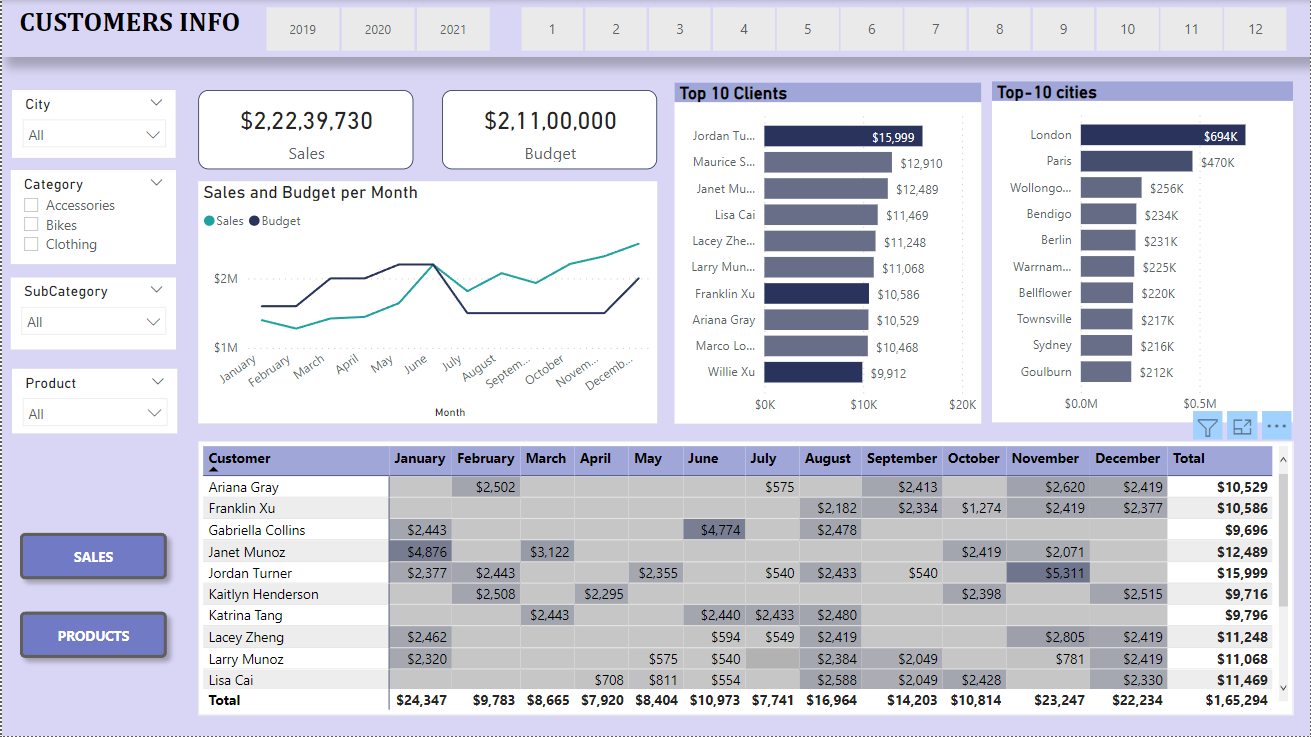

Layout of this report page (visuals, bound fields, positions):
{"tool":"powerbi","page":{"name":"CUSTOMERS INFO","canvas":[1280,720],"ordinal":1},"visuals":[{"type":"textbox","box":[0,0,1279.9,56.2],"z":0},{"type":"slicer","fields":{"Values":["Product_Table.Category"]},"box":[8.7,165.9,161.6,92.3],"z":1000},{"type":"slicer","fields":{"Values":["Product_Table.SubCategory"]},"box":[8.7,271.3,161.6,70.7],"z":2000},{"type":"slicer","fields":{"Values":["Customer_Table.Customer_city"]},"box":[10.1,88,160.2,66.4],"z":3000},{"type":"slicer","fields":{"Values":["Product_Table.Product_Name"]},"box":[10.1,360.7,161.6,63.5],"z":4000},{"type":"slicer","fields":{"Values":["Date_Table.Year"]},"box":[232.3,0,268.9,56.2],"z":5000},{"type":"slicer","fields":{"Values":["Date_Table.MonthNo"]},"box":[481.6,0,798.2,56.2],"z":6000},{"type":"lineChart","title":"Sales and Budget per Month","fields":{"Y":["Medidas.Sales","Medidas.Budget_Sum"],"Category":["Date_Table.Date.Variación.Date Hierarchy.Month"]},"box":[191.9,177.5,448.7,236.6],"z":7000},{"type":"barChart","title":"Top 10 Clients","fields":{"Category":["Customer_Table.Fullname"],"Y":["Medidas.Sales"]},"box":[658,80.8,300.1,333.3],"z":8000},{"type":"barChart","title":"Top-10 cities","fields":{"Y":["Medidas.Sales"],"Category":["Customer_Table.Customer_city"]},"box":[968.1,79.5,294.6,333.7],"z":9000},{"type":"actionButton","box":[8.7,512.2,161.6,63.5],"z":10000},{"type":"actionButton","box":[8.7,588.7,161.6,63.5],"z":11000},{"type":"card","fields":{"Values":["Budget.Budget"]},"box":[430,88,210.7,77.9],"z":12000},{"type":"card","fields":{"Values":["Medidas.Sales"]},"box":[191.9,88,210.7,77.9],"z":13000},{"type":"pivotTable","fields":{"Values":["Medidas.Sales"],"Rows":["Customer_Table.Fullname"],"Columns":["Date_Table.Date.Variación.Date Hierarchy.Month"]},"box":[191.9,431.5,1070.8,267.7],"z":14000}]}

Visuals, with their boxes in screenshot pixels (x1, y1, x2, y2), scaled from the page's 1280x720 canvas onto the 1311x737 screenshot:
textbox: box=[0, 0, 1310, 58]
slicer - Product_Table.Category: box=[9, 170, 174, 264]
slicer - Product_Table.SubCategory: box=[9, 278, 174, 350]
slicer - Customer_Table.Customer_city: box=[10, 90, 174, 158]
slicer - Product_Table.Product_Name: box=[10, 369, 176, 434]
slicer - Date_Table.Year: box=[238, 0, 513, 58]
slicer - Date_Table.MonthNo: box=[493, 0, 1310, 58]
"Sales and Budget per Month" lineChart: box=[197, 182, 656, 424]
"Top 10 Clients" barChart: box=[674, 83, 981, 424]
"Top-10 cities" barChart: box=[992, 81, 1293, 423]
actionButton: box=[9, 524, 174, 589]
actionButton: box=[9, 603, 174, 668]
card - Budget.Budget: box=[440, 90, 656, 170]
card - Medidas.Sales: box=[197, 90, 412, 170]
pivotTable - Medidas.Sales x Customer_Table.Fullname: box=[197, 442, 1293, 716]
